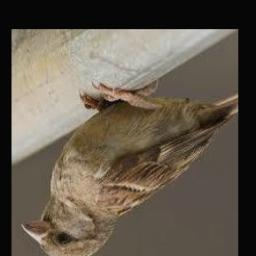Sparrow: (21, 82, 238, 256)
